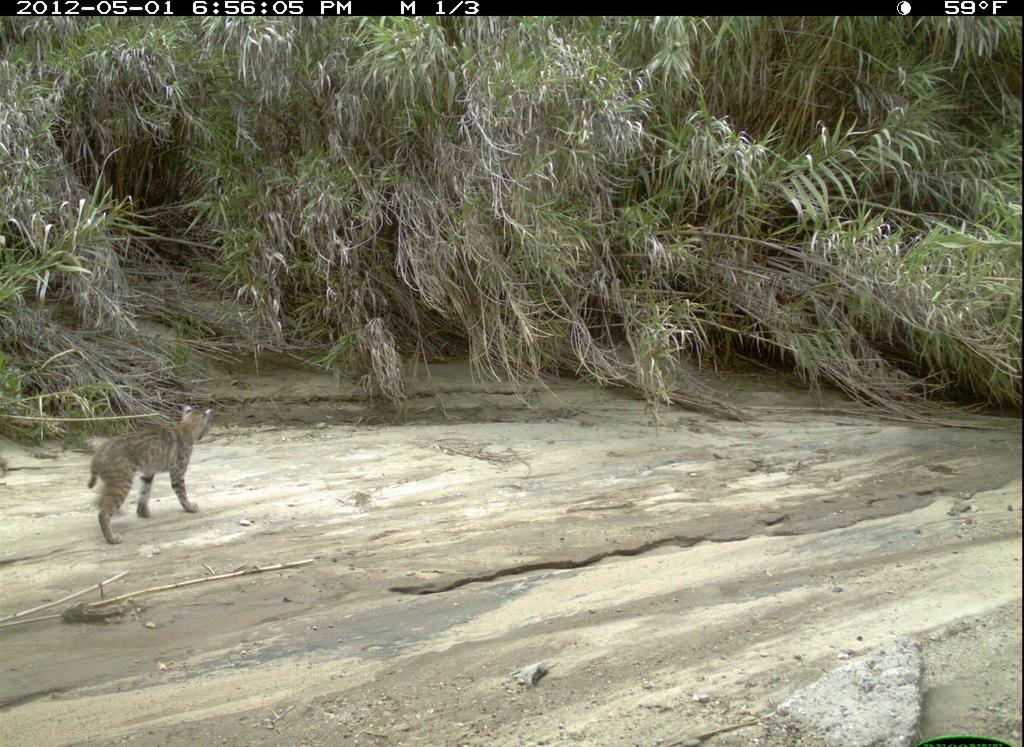bobcat: (84, 399, 230, 550)
